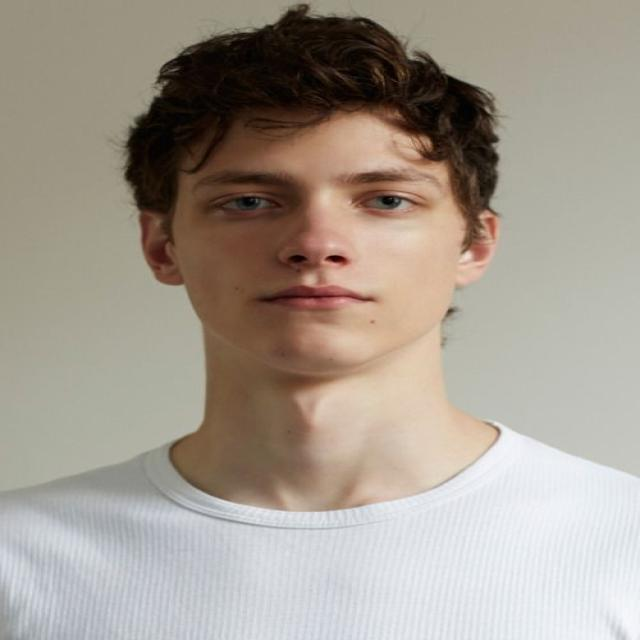front: (184, 147, 446, 345)
